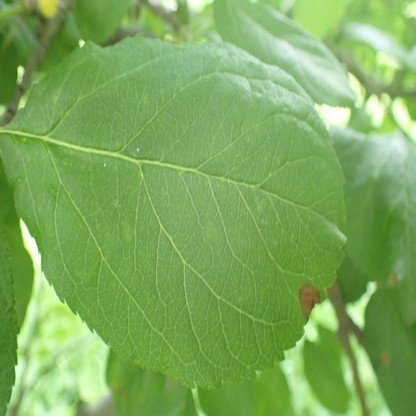frogeye_leaf_spot: (299, 284, 320, 321)
